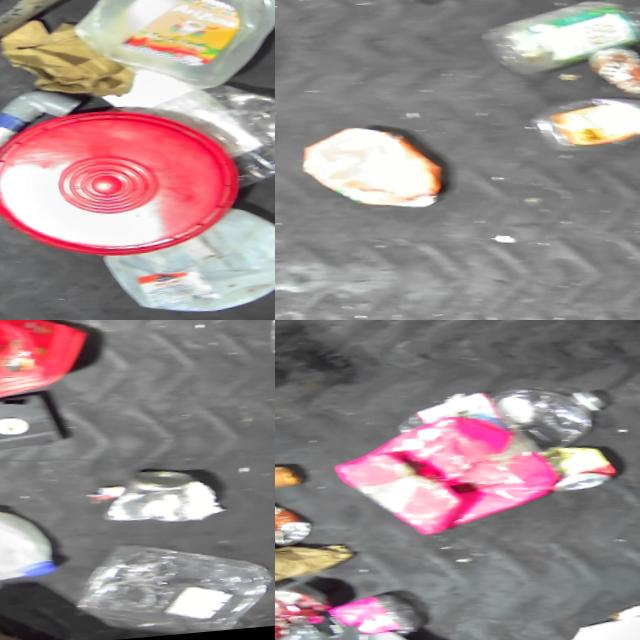can: (89, 473, 216, 535), (519, 442, 621, 505), (275, 490, 308, 556)
milk_jug: (57, 0, 275, 91), (83, 235, 275, 320), (0, 486, 55, 602)
non_white_jug: (284, 121, 440, 224)
plastic_bottle: (383, 375, 611, 464), (480, 0, 640, 93), (275, 583, 424, 640)
